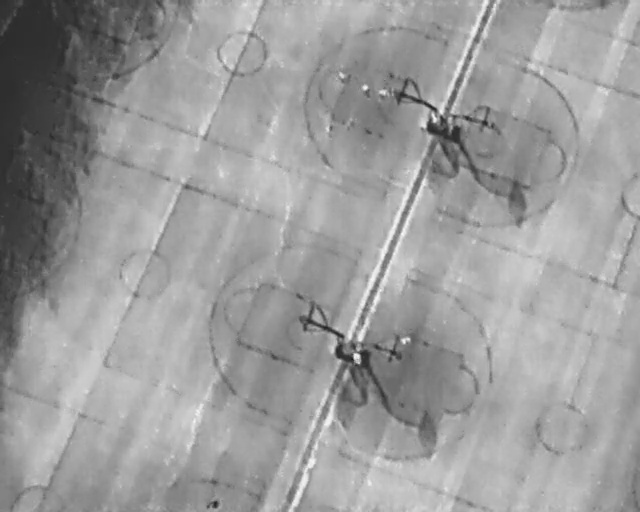Person: (360, 81, 370, 98), (336, 68, 347, 83), (377, 85, 387, 101), (401, 333, 411, 346)
